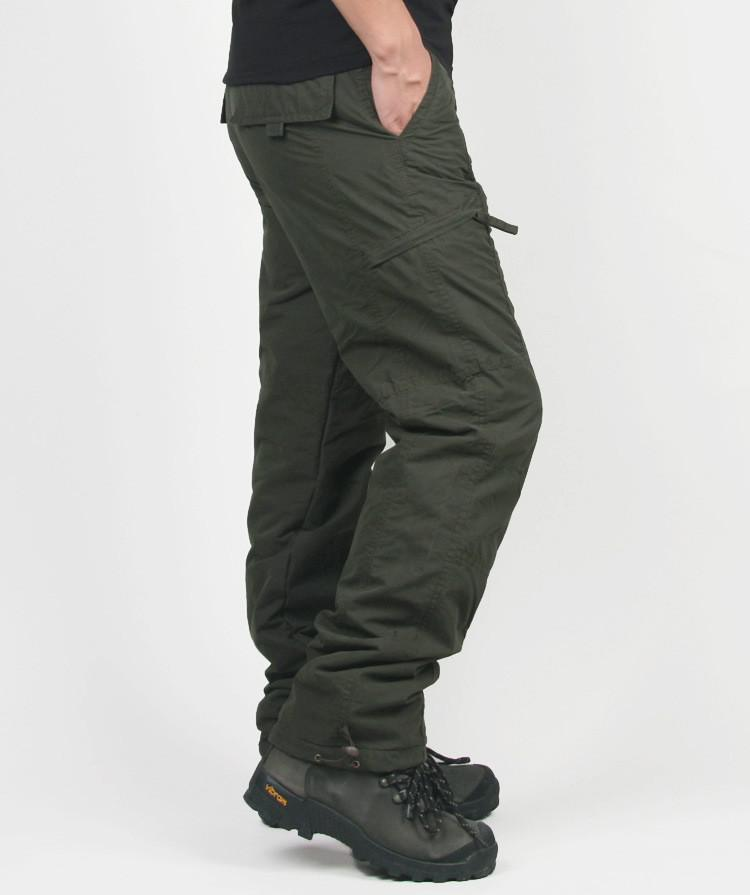pants: (206, 59, 542, 777)
